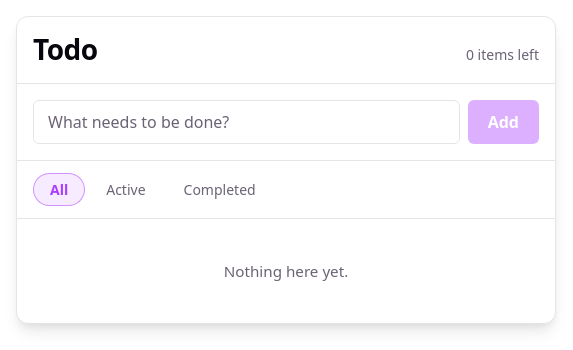
Test: App › uses plural "items" for multiple remaining
Type "Task one" into the field at [246, 122], box [33,100,460,144]
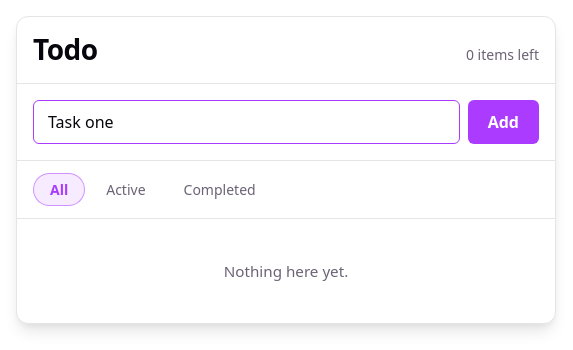
Click the button "Add" at [503, 122], box [468,100,539,144]
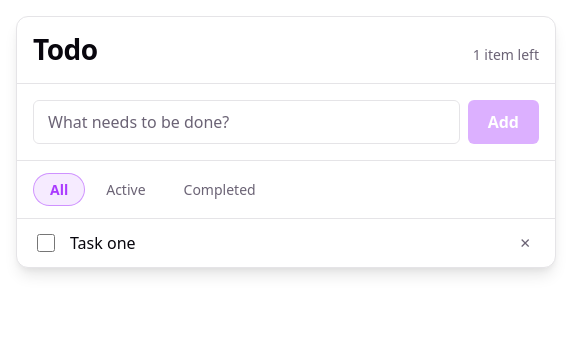
Type "Task two" into the field at [246, 122], box [33,100,460,144]
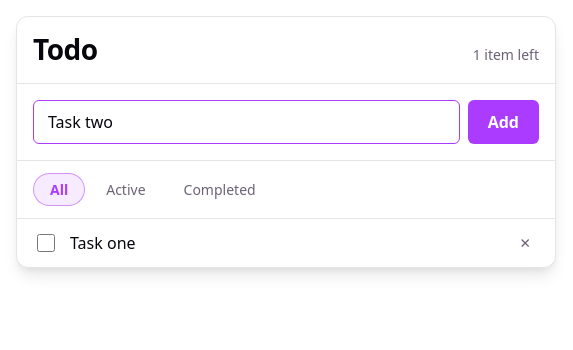
Click the button "Add" at [503, 122], box [468,100,539,144]
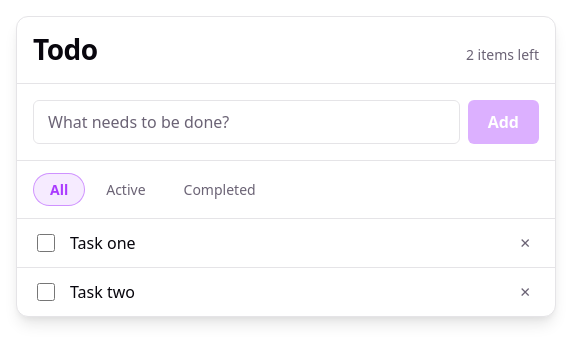
Check: the text "2 items left" is shown, box [466,43,539,67]
